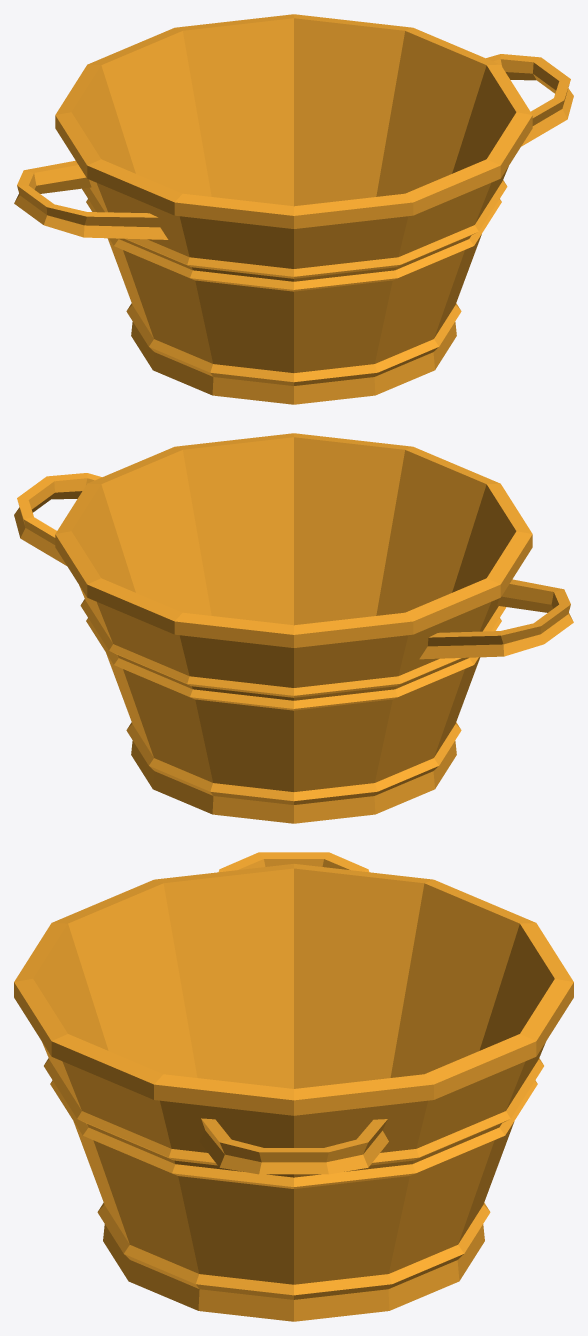
The model's file is SM_Wash_Tub_Metal.fbx.
The picture shows the model from 3 angles, top to bottom: view 1: azimuth 30°, elevation 25°; view 2: azimuth 150°, elevation 25°; view 3: azimuth 270°, elevation 25°; orthographic projection. The views are drawn at different scales.
Parts seen in each view (by area): view 1: wash-tub-metal; view 2: wash-tub-metal; view 3: wash-tub-metal.
Boxes of the visible parts, left/top/right/bottom form: wash-tub-metal: left=14, top=14, right=573, bottom=404; wash-tub-metal: left=14, top=433, right=573, bottom=823; wash-tub-metal: left=14, top=852, right=573, bottom=1321.
Size of the model in its own units: 0.6035 by 0.247 by 0.4707.
